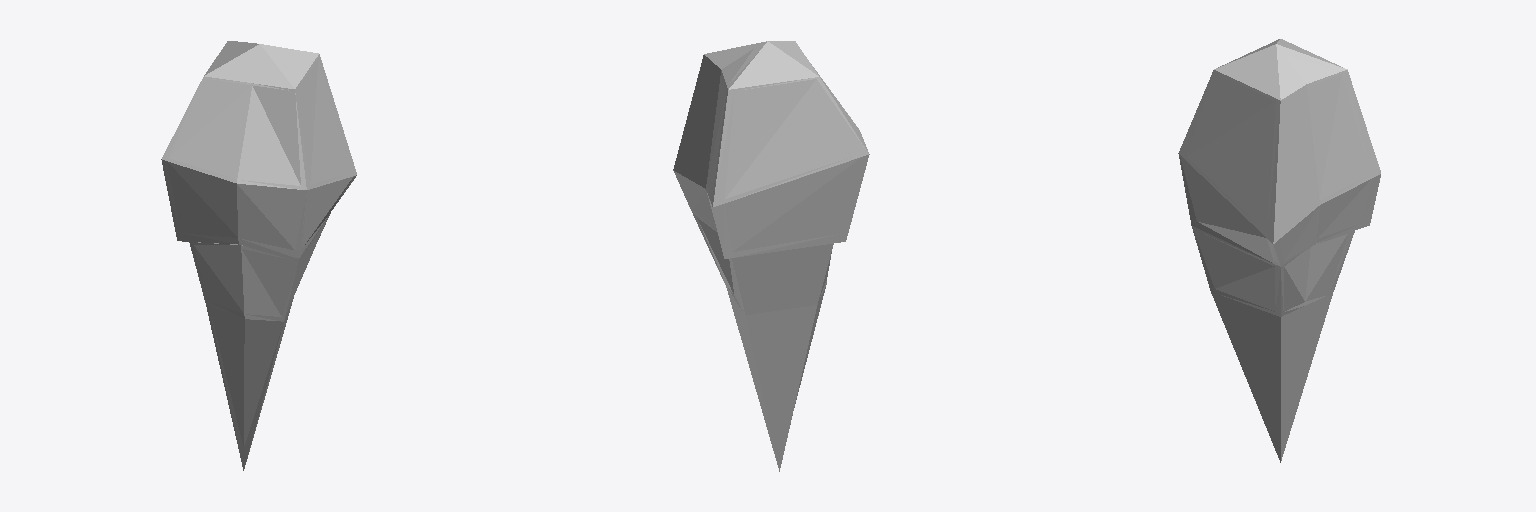
The model's file is spike02.obj.
3 renders of one model, left to right at view 1: azimuth 30°, elevation 25°; view 2: azimuth 150°, elevation 25°; view 3: azimuth 270°, elevation 25°, orthographic.
Parts seen in each view (by area): view 1: pPyramid1; view 2: pPyramid1; view 3: pPyramid1.
Part boxes in pixels (x1,y1,x2,y2): pPyramid1: (161, 41, 356, 470); pPyramid1: (673, 41, 869, 471); pPyramid1: (1178, 39, 1380, 462).
Bounding box in the file's own units: 1.2 × 2.48 × 1.07.